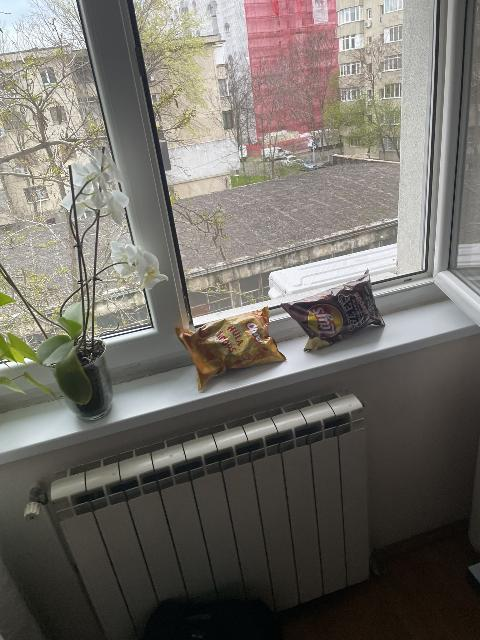Chio Hula Hoops Cheese 70g: (176, 306, 285, 391)
Lays Beef Grilled Ribs 125g: (278, 270, 381, 350)
